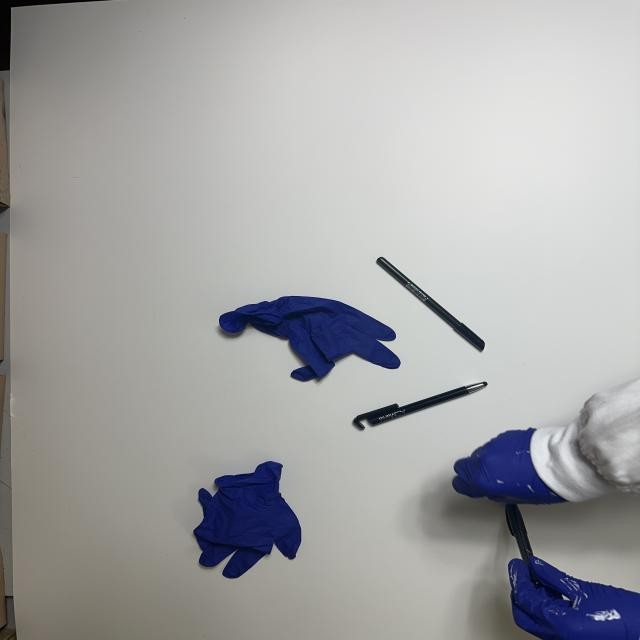gloves_contaminated: (508, 556, 640, 640), (452, 428, 566, 504)
